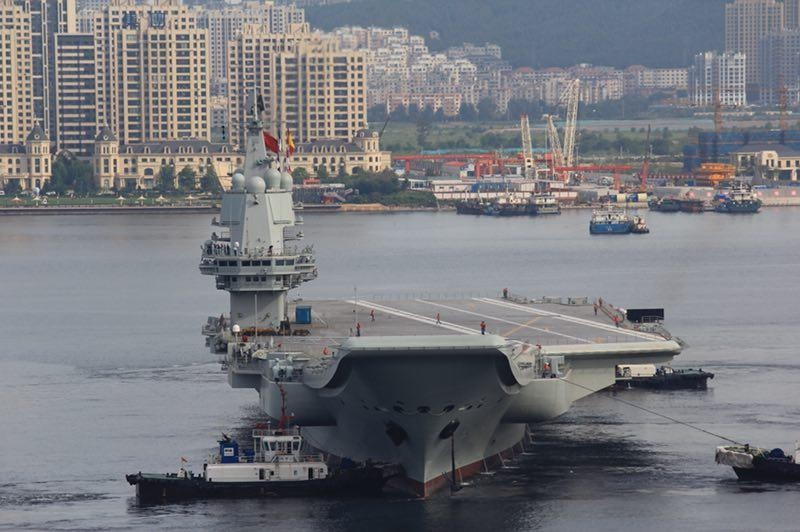Cargoship: (196, 106, 687, 492)
otherboat: (126, 412, 398, 509), (601, 343, 727, 394), (710, 422, 800, 488), (584, 201, 657, 236)
